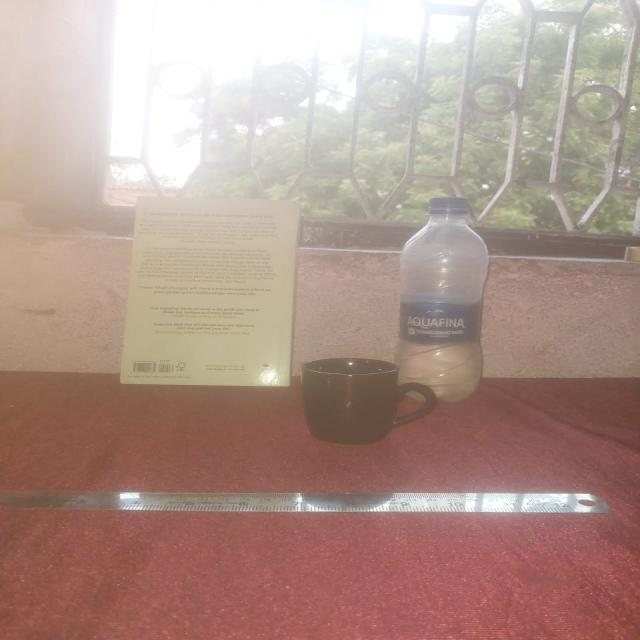Book: (124, 184, 297, 394)
Bottle: (406, 189, 504, 405)
Cup: (288, 357, 443, 443)
scale: (0, 484, 613, 516)
